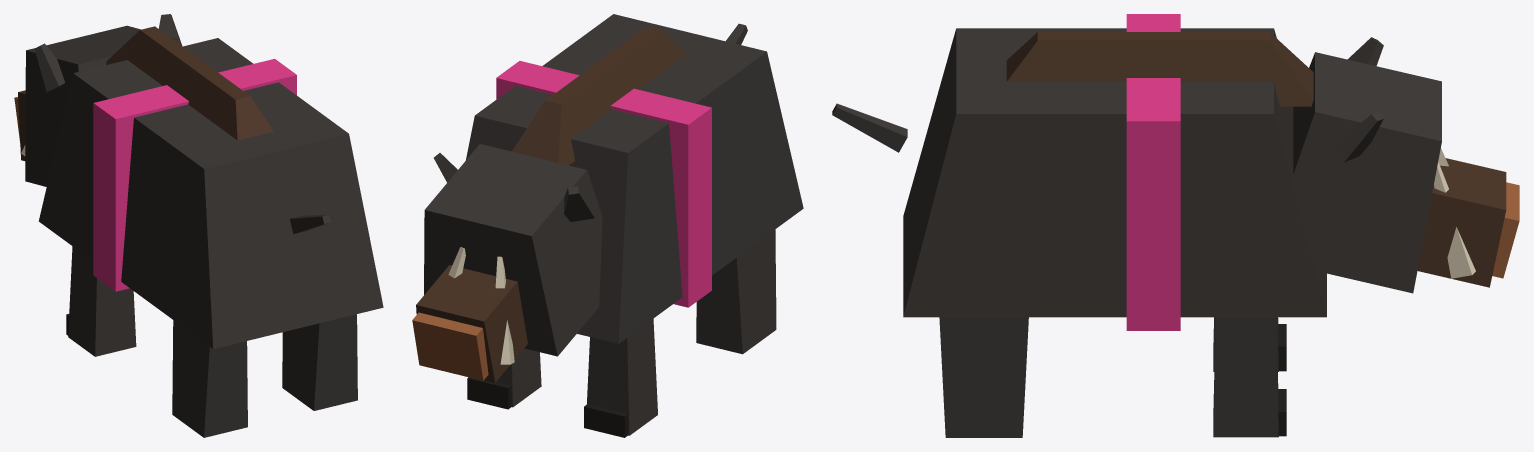
Rendered from EN_WarBoar.fbx.
3 views of the same model, side by side, from view 1: azimuth 30°, elevation 25°; view 2: azimuth 150°, elevation 25°; view 3: azimuth 270°, elevation 25° (orthographic). The views are drawn at different scales.
Parts seen in each view (by area): view 1: Body, Harness, LegL, Mane, Head, LegR, ArmL, EarL, Tail, Snout, EarR; view 2: Body, Head, Harness, Mane, LegL, Snout, ArmL, Disc, ArmR, HoofL, HoofR, EarL (+1 smaller); view 3: Body, Head, Harness, Mane, LegR, ArmR, Snout, Tail, Disc, EarR, TuskR.
Boxes of the visible parts, bbox=[...] form: Body: bbox=[38, 38, 383, 349]; Harness: bbox=[93, 58, 296, 291]; LegL: bbox=[172, 320, 247, 437]; Mane: bbox=[106, 26, 273, 140]; Head: bbox=[25, 25, 180, 186]; LegR: bbox=[282, 314, 357, 410]; ArmL: bbox=[68, 246, 136, 356]; EarL: bbox=[34, 43, 65, 92]; Tail: bbox=[290, 214, 330, 234]; Snout: bbox=[18, 90, 25, 160]; EarR: bbox=[158, 14, 182, 45]; Body: bbox=[466, 14, 803, 343]; Head: bbox=[424, 144, 602, 356]; Harness: bbox=[496, 61, 711, 307]; Mane: bbox=[512, 26, 687, 165]; LegL: bbox=[696, 229, 776, 354]; Snout: bbox=[416, 265, 527, 382]; ArmL: bbox=[587, 318, 657, 435]; Disc: bbox=[412, 312, 488, 380]; ArmR: bbox=[496, 348, 541, 407]; HoofL: bbox=[584, 404, 628, 437]; HoofR: bbox=[467, 377, 511, 409]; EarL: bbox=[564, 186, 594, 221]; Body: bbox=[903, 28, 1326, 317]; Head: bbox=[1293, 52, 1441, 293]; Harness: bbox=[1126, 14, 1180, 330]; Mane: bbox=[1006, 32, 1313, 106]; LegR: bbox=[939, 317, 1028, 437]; ArmR: bbox=[1213, 317, 1278, 437]; Snout: bbox=[1417, 158, 1506, 287]; Tail: bbox=[832, 103, 907, 152]; Disc: bbox=[1492, 182, 1519, 278]; EarR: bbox=[1332, 111, 1383, 162]; TuskR: bbox=[1434, 162, 1475, 278].
Bounding box in the file's own units: 0.66 × 1.78 × 1.02.
